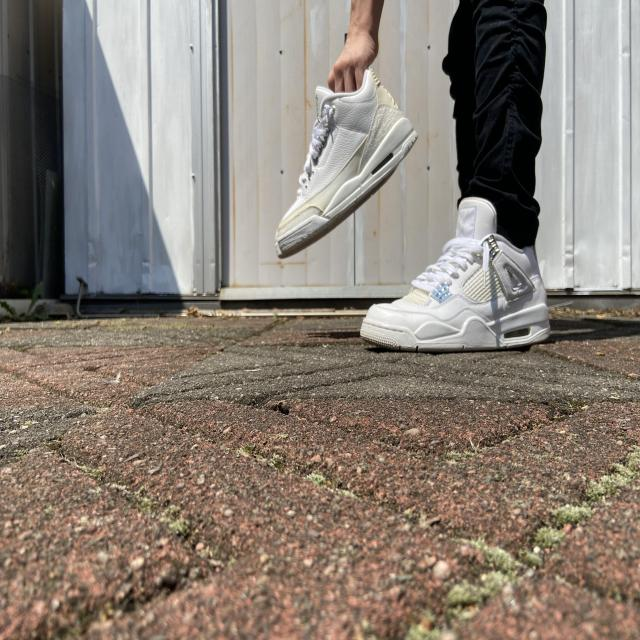shoe: (359, 198, 551, 350), (273, 76, 418, 258)
